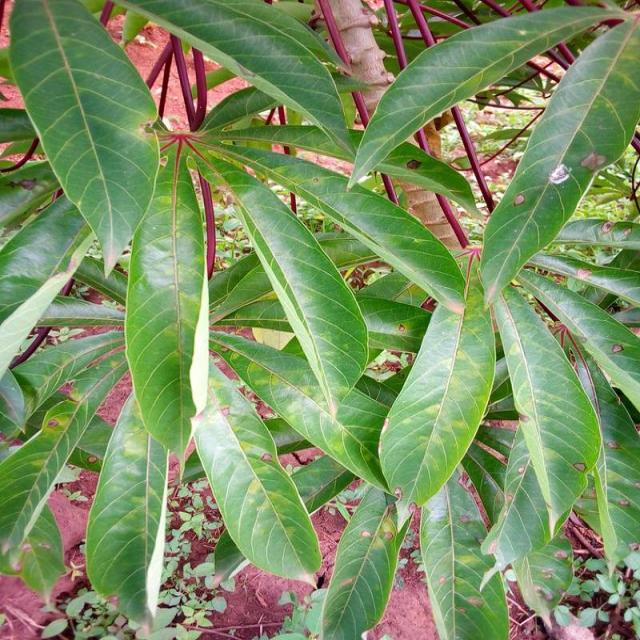cassava leaf: (2, 1, 640, 637), (479, 11, 640, 306), (9, 0, 161, 279), (221, 163, 370, 415), (378, 251, 498, 513), (124, 138, 210, 472)
